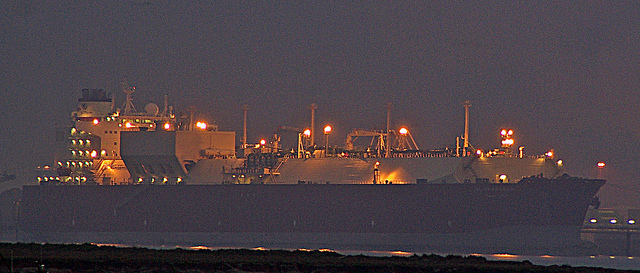LNG_ship: (18, 82, 609, 252)
